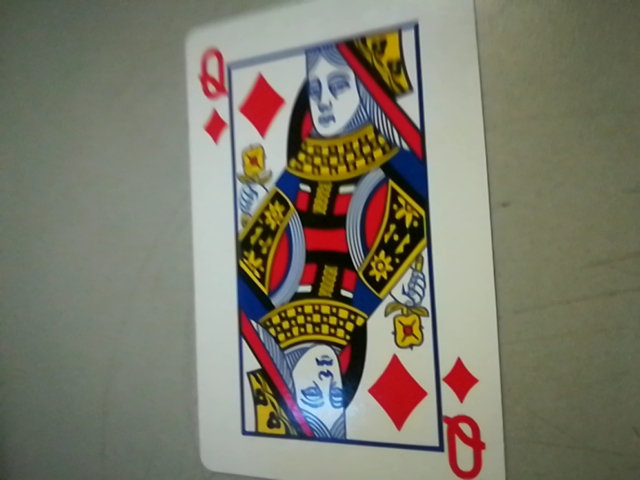fk q: (432, 354, 497, 480)
